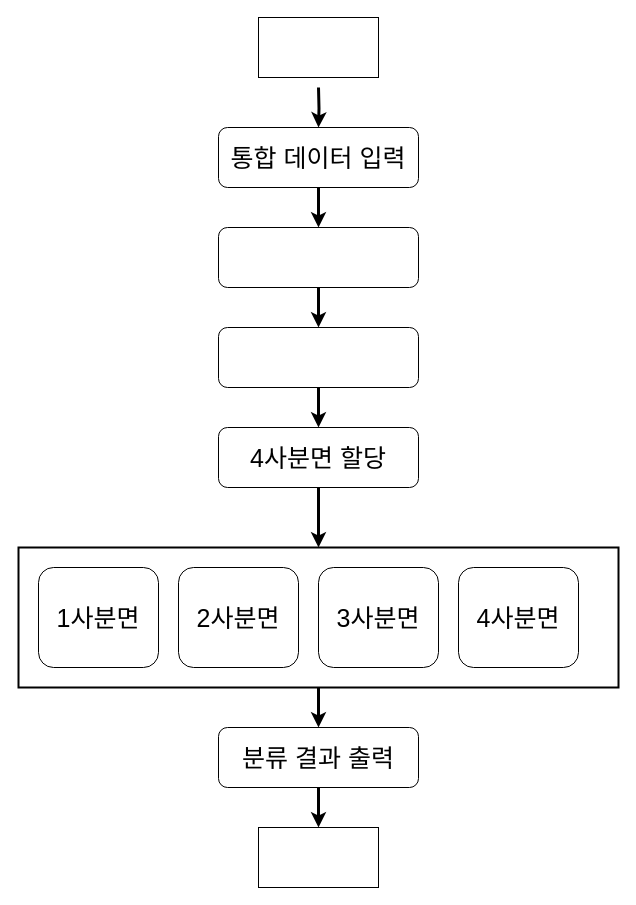
The diagram is 636 pixels wide and 905 high, and some of its shapes have lost their labels. Each missing label, with the box of its shape:
등급 분류: (218, 326, 418, 388)
시작: (258, 16, 378, 78)
종료: (258, 826, 378, 888)
중앙값 계산: (218, 226, 418, 288)
